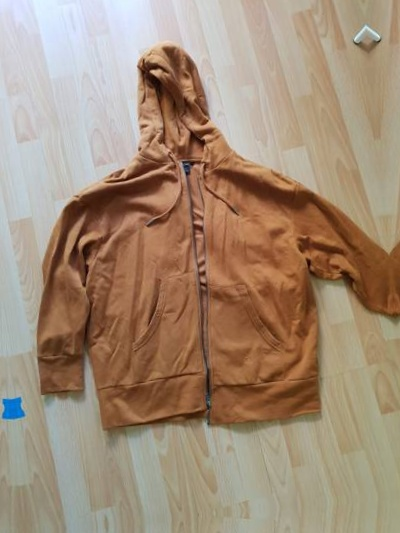Hoodie: (2, 28, 386, 454), (387, 0, 400, 415)
